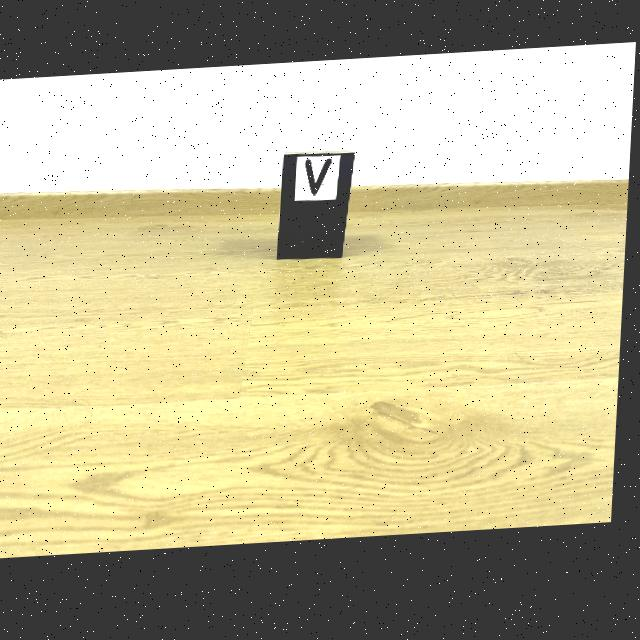V: (307, 164, 334, 199)
